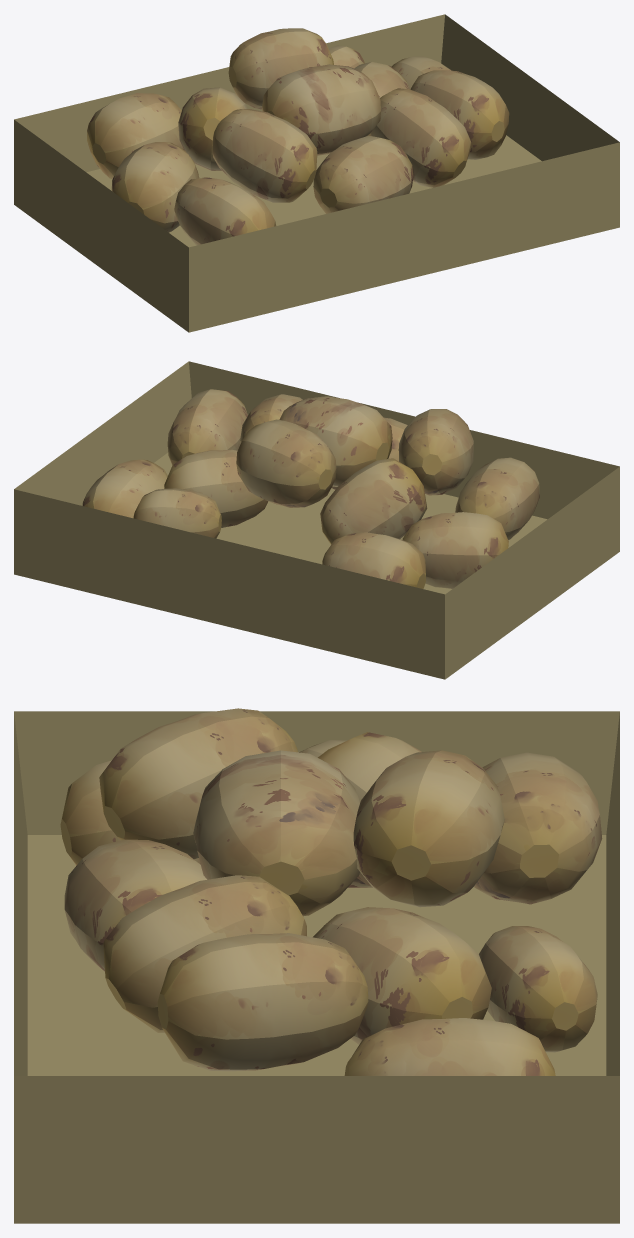
File: potato_box1.fbx
The picture shows the model from 3 angles, top to bottom: view 1: azimuth 30°, elevation 25°; view 2: azimuth 150°, elevation 25°; view 3: azimuth 270°, elevation 25°; orthographic projection. The views are drawn at different scales.
Visible parts, largest first — view 1: potopo_box; view 2: potopo_box; view 3: potopo_box.
Boxes of the visible parts, box(x1,y1,x2,y2) form: potopo_box: box(14, 14, 619, 332); potopo_box: box(14, 361, 619, 679); potopo_box: box(14, 708, 619, 1223).
Bounding box in the file's own units: 112 × 39.9 × 79.
Materials: 2 (1 with a texture image).
